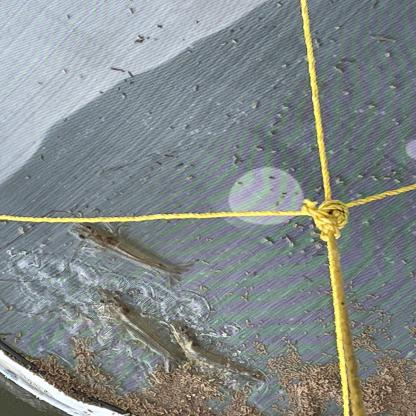shrimp: (68, 223, 195, 287), (95, 288, 190, 373), (169, 320, 269, 385)
